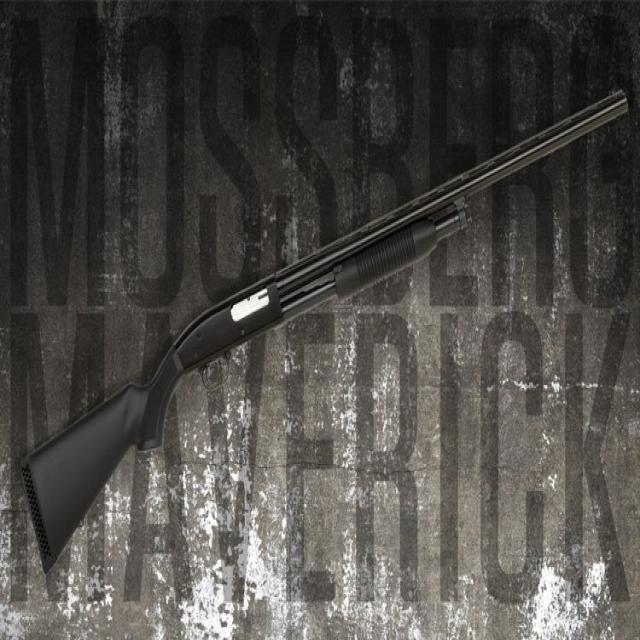ShotGun: (25, 94, 627, 567)
